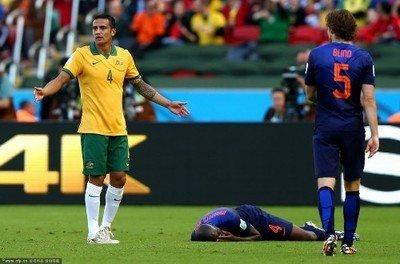down: (187, 203, 327, 245)
up: (31, 9, 189, 248), (299, 7, 383, 259)
